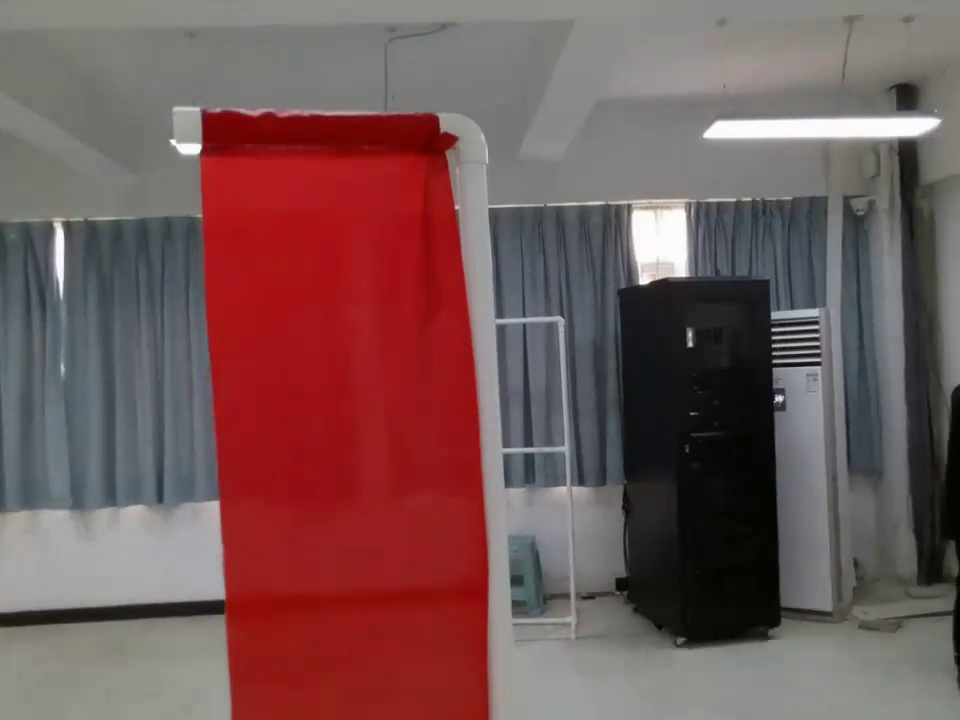qi: (165, 103, 510, 720)
